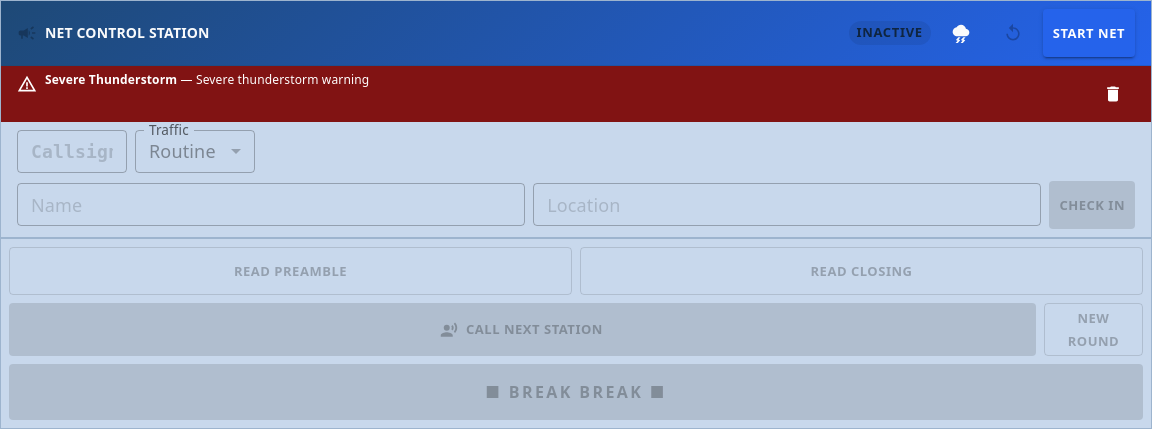
Test: NCSPanel › ncs_alert message handling › dismisses alerts when dismiss button clicked
Click the button named "dismiss alerts": (1113, 94) [1091,72,1135,116]
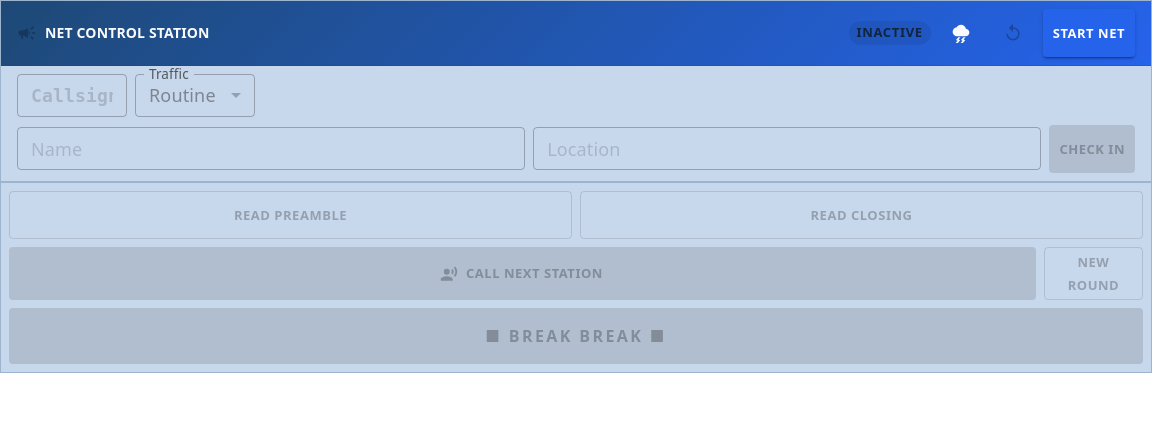
Expected: the text "Severe Thunderstorm" is gone
